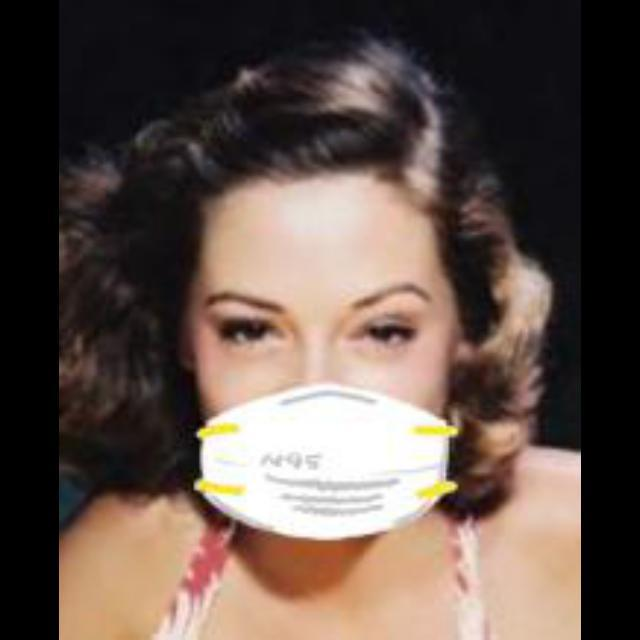suspicion: (154, 117, 536, 589)
